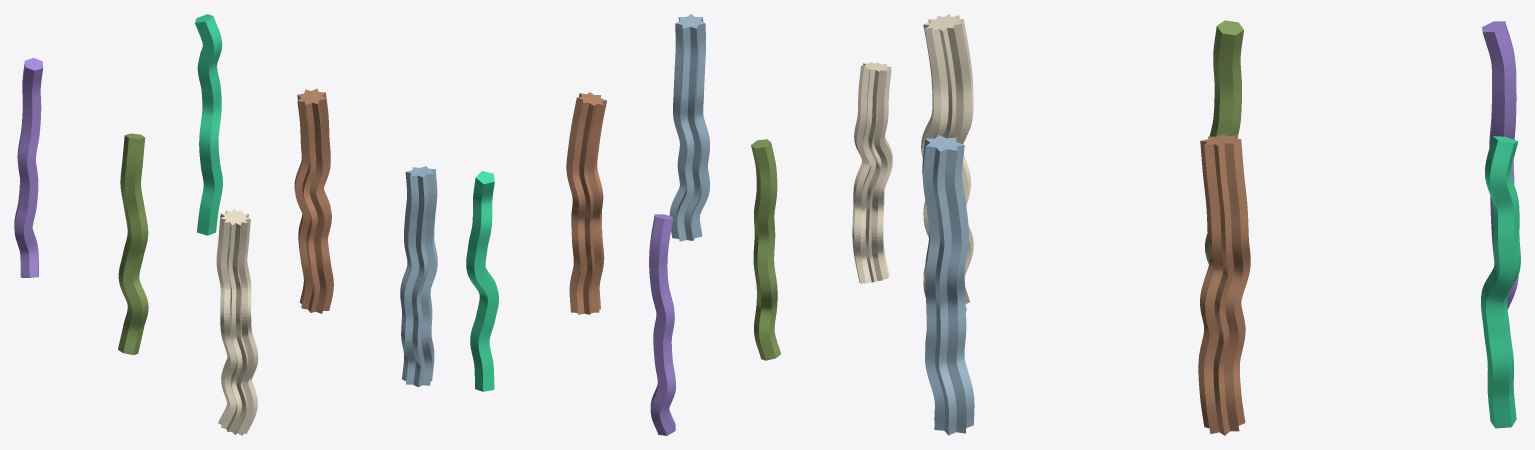
Rendered from 1_OpenedSplineTest_2023-06-04-15-32-24.gltf.
The picture shows the model from 3 angles, left to right: view 1: azimuth 30°, elevation 25°; view 2: azimuth 150°, elevation 25°; view 3: azimuth 270°, elevation 25°; orthographic projection. The views are drawn at different scales.
Bounding box in the file's own units: 239 × 233 × 434.
